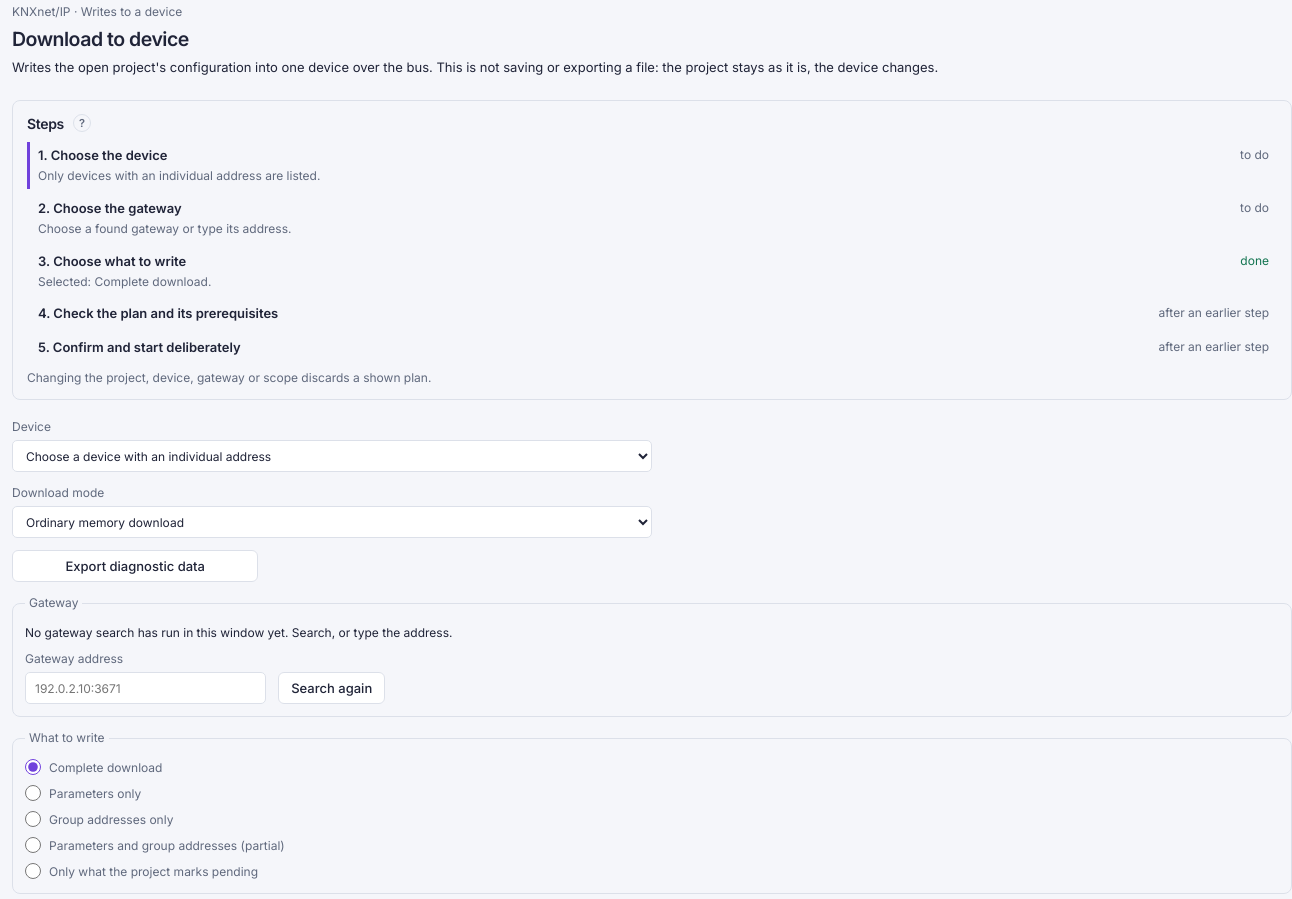
Scenario: puts the Download mode selector directly after the device selector, above refusal notice and gateway
Select "1.1.67 — Configured button (memory download: not supported yet)" in the dropdown labelled "Device" at (332,456), box [12,440,652,472]
(page scrolled)
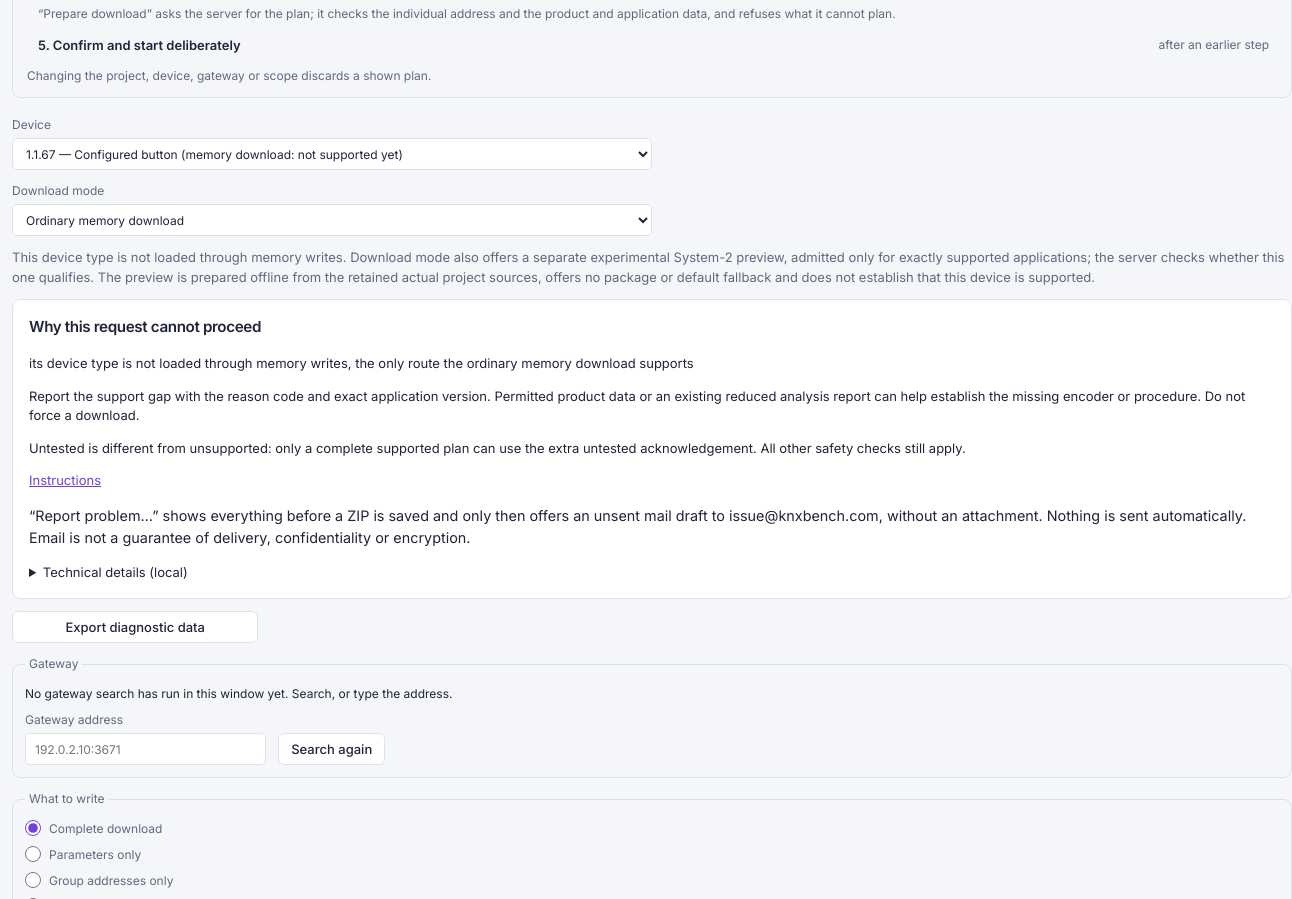
Result: the element named "Why this request cannot proceed" is shown at [12,299,1291,599]
